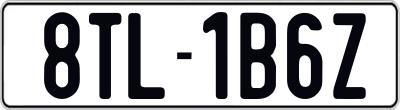1: (203, 11, 230, 101)
6: (284, 10, 321, 101)
8: (43, 9, 83, 97)
B: (239, 12, 281, 104)
L: (128, 12, 170, 98)
T: (87, 13, 121, 102)
Z: (333, 10, 368, 98)
